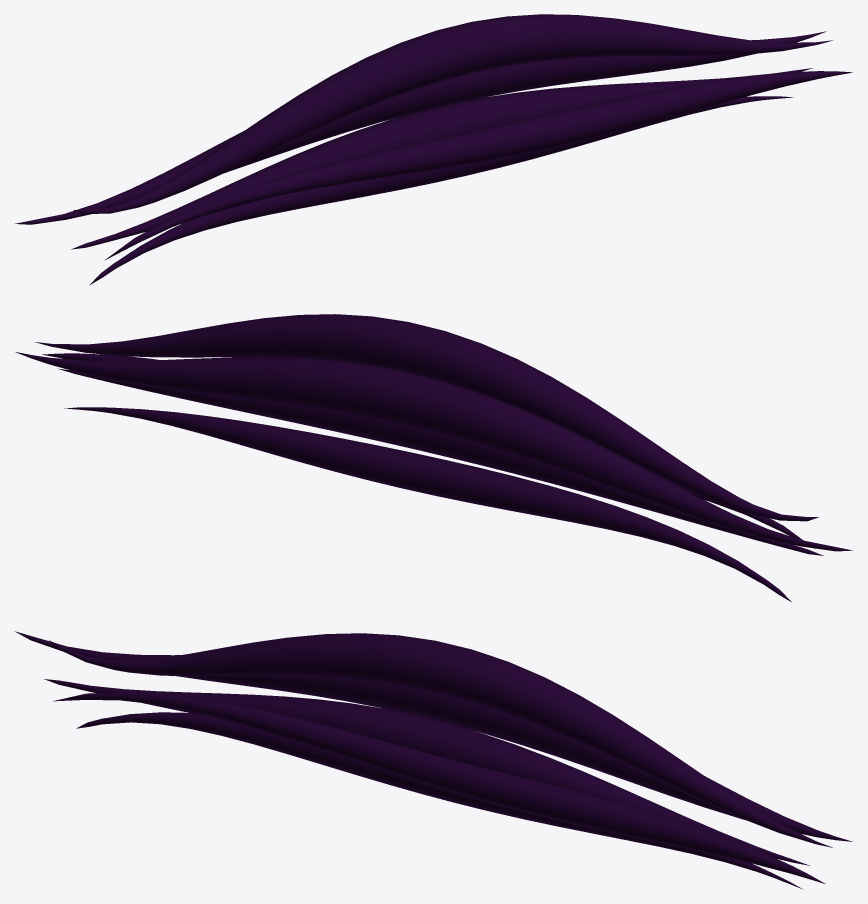
File: PeloDeGato.fbx
The picture shows the model from 3 angles, top to bottom: view 1: azimuth 30°, elevation 25°; view 2: azimuth 150°, elevation 25°; view 3: azimuth 330°, elevation 25°; orthographic projection. The views are drawn at different scales.
Parts seen in each view (by area): view 1: Pelo de Gato Preto; view 2: Pelo de Gato Preto; view 3: Pelo de Gato Preto.
Boxes of the visible parts, x1,y1,x2,y2 form: Pelo de Gato Preto: (15, 14, 852, 285); Pelo de Gato Preto: (15, 314, 852, 601); Pelo de Gato Preto: (14, 631, 852, 889).
Bounding box in the file's own units: 286 × 58.22 × 27.63.
